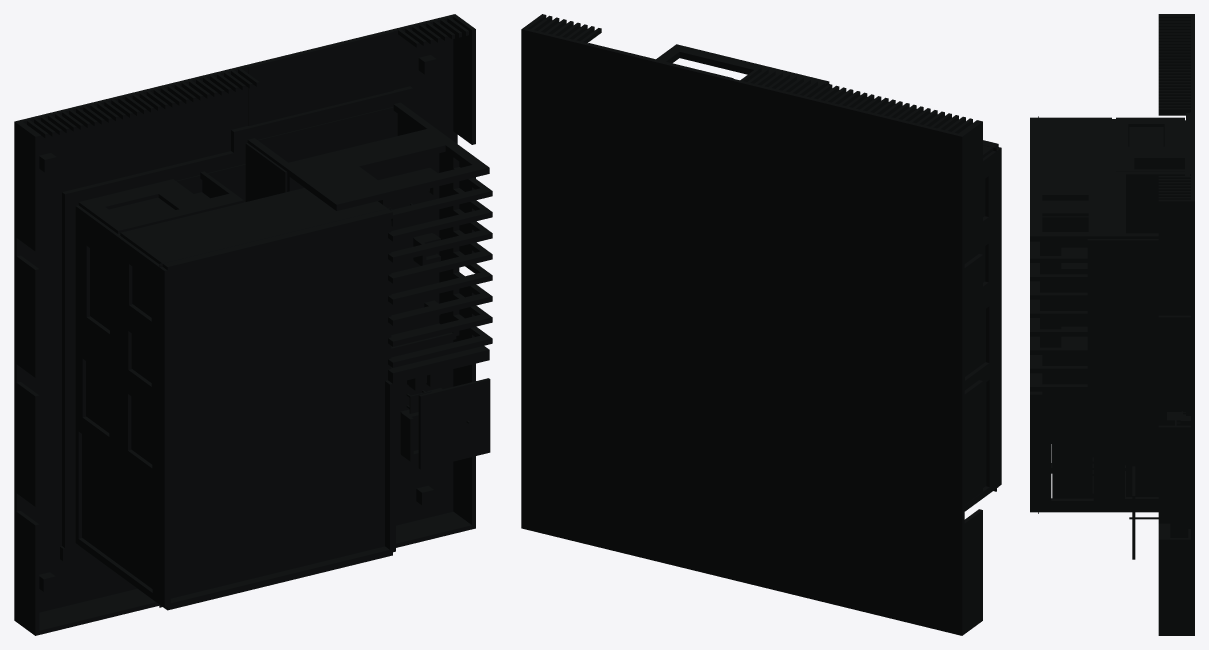
File: COONE_Collision_Debug.obj
The picture shows the model from 3 angles, left to right: view 1: azimuth 30°, elevation 25°; view 2: azimuth 150°, elevation 25°; view 3: azimuth 270°, elevation 25°; orthographic projection. The views are drawn at different scales.
Parts seen in each view (by area): view 1: convex_427_frame, convex_156_frame, convex_199_frame, convex_322_frame, convex_080_frame, convex_003_frame, convex_242_frame, convex_118_frame, convex_425_frame, convex_196_frame, convex_227_frame, convex_397_frame (+47 smaller); view 2: convex_156_frame, convex_045_frame, convex_013_frame, convex_010_frame, convex_034_frame, convex_425_frame, convex_266_frame, convex_439_frame; view 3: convex_251_frame, convex_379_frame, convex_322_frame, convex_417_frame, convex_253_frame, convex_244_frame, convex_252_frame, convex_229_frame, convex_156_frame, convex_376_frame, convex_397_frame, convex_387_frame (+35 smaller).
Part boxes in pixels (x1,y1,x2,y2): convex_427_frame: [159, 207, 391, 607]; convex_156_frame: [14, 14, 457, 621]; convex_199_frame: [248, 31, 393, 125]; convex_322_frame: [120, 188, 386, 263]; convex_080_frame: [62, 150, 245, 558]; convex_003_frame: [82, 434, 152, 588]; convex_242_frame: [418, 378, 490, 469]; convex_118_frame: [16, 511, 475, 635]; convex_425_frame: [159, 267, 170, 607]; convex_196_frame: [247, 107, 397, 162]; convex_227_frame: [366, 153, 439, 334]; convex_397_frame: [289, 156, 392, 210]; convex_156_frame: [521, 27, 964, 635]; convex_045_frame: [960, 120, 982, 249]; convex_013_frame: [964, 380, 982, 504]; convex_010_frame: [964, 509, 982, 633]; convex_034_frame: [964, 254, 982, 375]; convex_425_frame: [997, 147, 1001, 487]; convex_266_frame: [986, 375, 996, 486]; convex_439_frame: [679, 46, 772, 74]; convex_251_frame: [1112, 239, 1184, 405]; convex_379_frame: [1039, 364, 1184, 442]; convex_322_frame: [1039, 117, 1111, 216]; convex_417_frame: [1087, 239, 1111, 405]; convex_253_frame: [1158, 199, 1190, 301]; convex_244_frame: [1158, 425, 1190, 523]; convex_252_frame: [1158, 315, 1190, 411]; convex_229_frame: [1158, 538, 1190, 635]; convex_156_frame: [1191, 14, 1194, 635]; convex_376_frame: [1052, 444, 1092, 498]; convex_397_frame: [1030, 171, 1111, 200]; convex_387_frame: [1040, 266, 1087, 326].
Bounding box in the file's own units: 876 × 948 × 326.
1 material, 1 textured.
